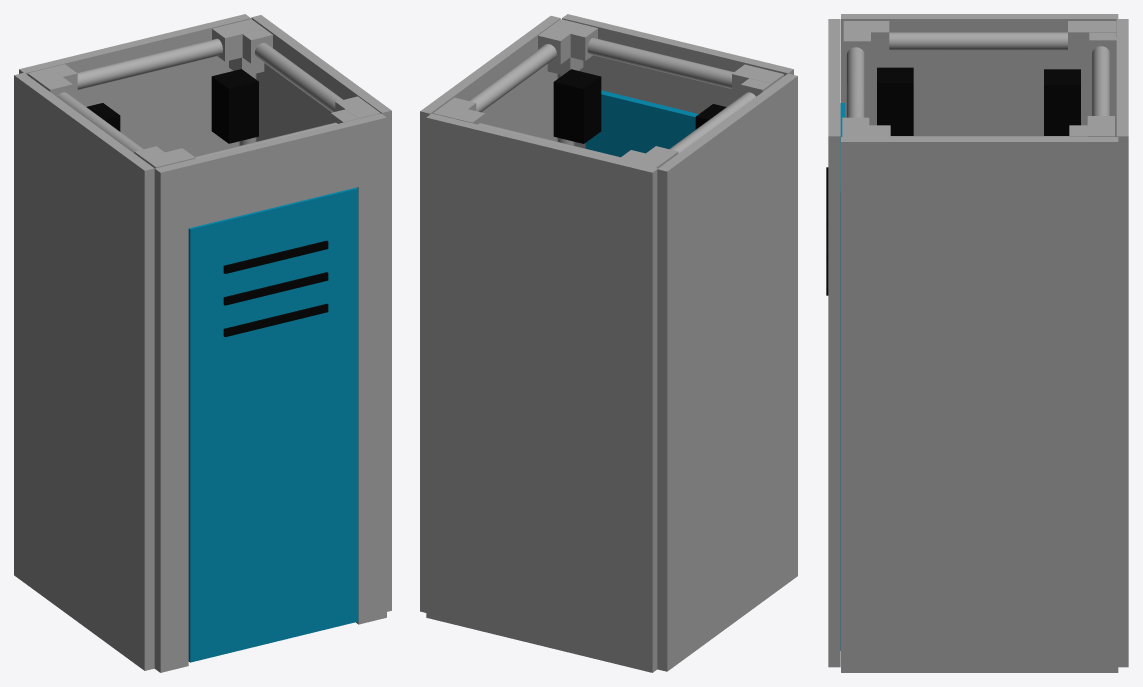
File: casier.fbx
The picture shows the model from 3 angles, left to right: view 1: azimuth 30°, elevation 25°; view 2: azimuth 150°, elevation 25°; view 3: azimuth 270°, elevation 25°; orthographic projection. The views are drawn at different scales.
Visible parts, largest first — view 1: pCube26, pCube11, pCube10, pCube12, pasted__pasted__pasted__pasted__pasted__pasted__pasted__pCyl, pCube13, pCube23; view 2: pCube12, pCube11, pasted__pasted__pasted__pasted__pasted__pasted__pasted__pCyl, pCube13, pCube10, pCube26, pCube24; view 3: pCube13, pCube11, pasted__pasted__pasted__pasted__pasted__pasted__pasted__pCyl, pCube10, pCube12, pCube25, pCube22, pCube26.
Boxes of the visible parts, left/top/right/bottom form: pCube26: left=188, top=187, right=358, bottom=662; pCube11: left=14, top=73, right=154, bottom=670; pCube10: left=154, top=113, right=386, bottom=672; pCube12: left=19, top=14, right=250, bottom=156; pasted__pasted__pasted__pasted__pasted__pasted__pasted__pCyl: left=27, top=19, right=380, bottom=168; pCube13: left=251, top=15, right=391, bottom=611; pCube23: left=211, top=69, right=258, bottom=143; pCube12: left=426, top=113, right=657, bottom=672; pCube11: left=657, top=73, right=797, bottom=671; pasted__pasted__pasted__pasted__pasted__pasted__pasted__pCyl: left=433, top=19, right=783, bottom=168; pCube13: left=420, top=16, right=560, bottom=612; pCube10: left=562, top=14, right=793, bottom=148; pCube26: left=585, top=90, right=698, bottom=157; pCube24: left=553, top=69, right=601, bottom=143; pCube13: left=841, top=137, right=1118, bottom=672; pCube11: left=841, top=14, right=1118, bottom=136; pasted__pasted__pasted__pasted__pasted__pasted__pasted__pCyl: left=842, top=21, right=1116, bottom=136; pCube10: left=828, top=19, right=840, bottom=667; pCube12: left=1116, top=19, right=1128, bottom=667; pCube25: left=877, top=67, right=913, bottom=135; pCube22: left=1044, top=69, right=1080, bottom=135; pCube26: left=826, top=103, right=844, bottom=650.
Size of the model in its own units: 3.64 by 7.04 by 3.64.
